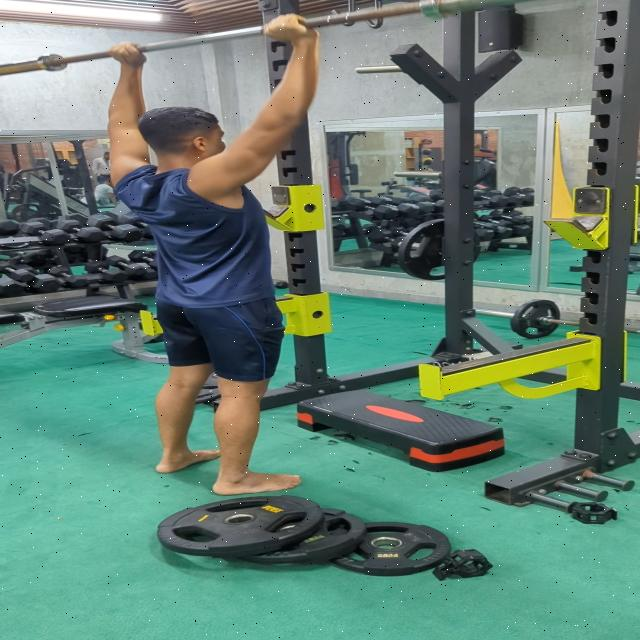Normal_OverheadPress: (101, 6, 394, 502)
